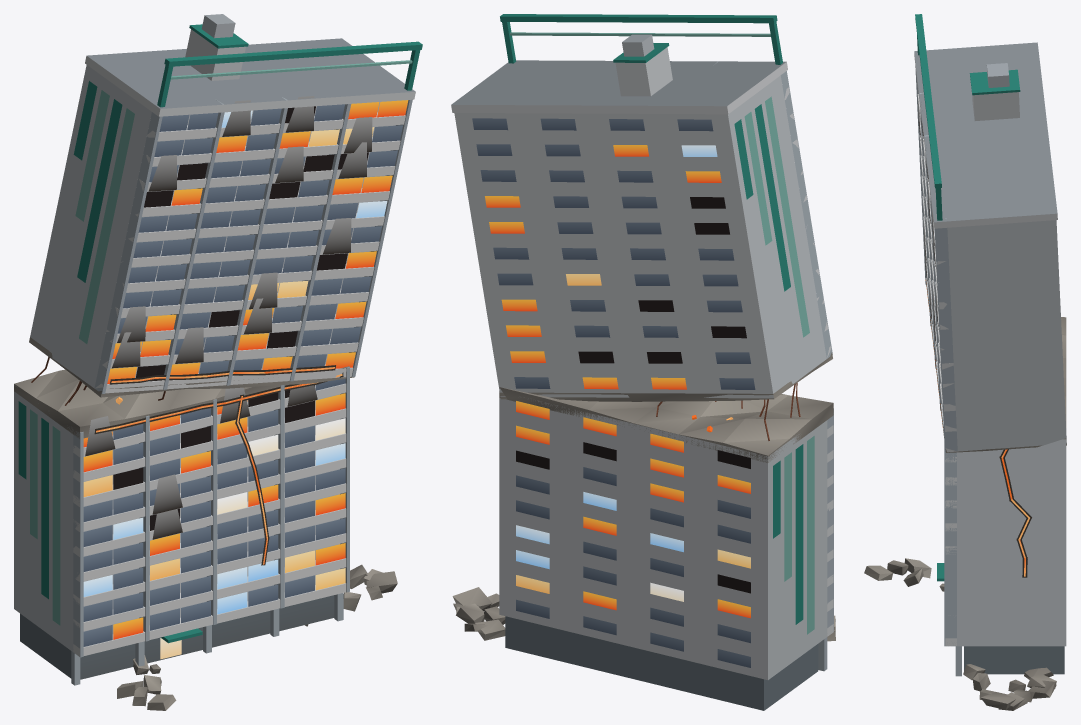
The model's file is bld_apt_B_collapsed.meshopt.glb.
3 renders of one model, left to right at view 1: azimuth 30°, elevation 25°; view 2: azimuth 150°, elevation 25°; view 3: azimuth 270°, elevation 25°, orthographic. The views are drawn at different scales.
Visible parts, largest first — view 1: bld_apt_B_collapsed; view 2: bld_apt_B_collapsed; view 3: bld_apt_B_collapsed.
Part boxes in pixels (x1,y1,x2,y2): bld_apt_B_collapsed: [14, 14, 422, 710]; bld_apt_B_collapsed: [451, 14, 835, 710]; bld_apt_B_collapsed: [864, 14, 1066, 710].
Size of the model in its own units: 42.42 by 73.15 by 23.17.
